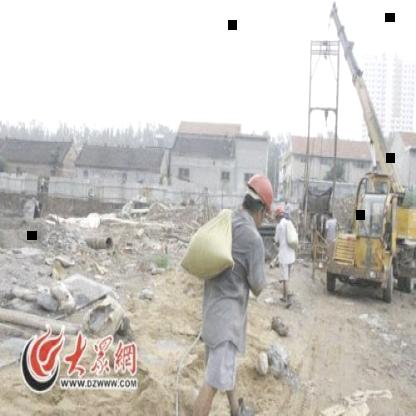helmet: (246, 166, 276, 222)
